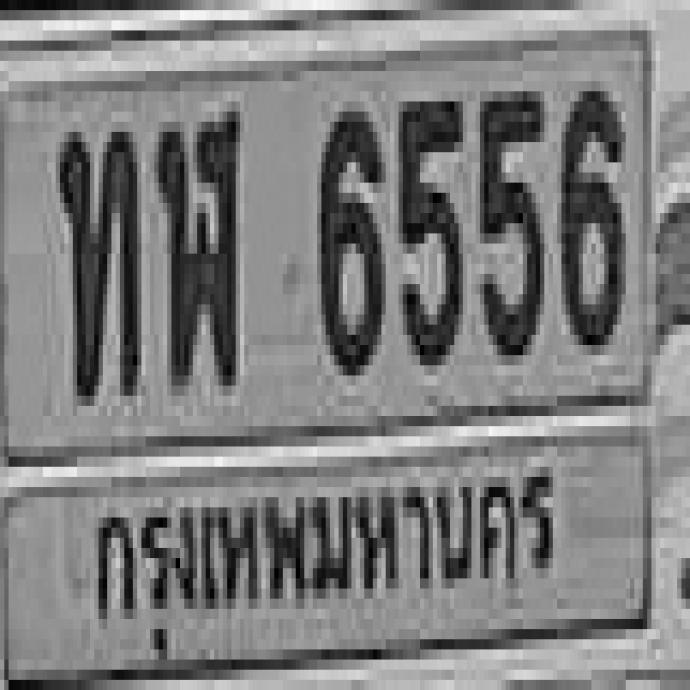5: (475, 81, 539, 351), (395, 93, 458, 357)
6: (315, 101, 378, 366), (556, 82, 618, 342)
A23: (56, 121, 135, 394)
A42: (154, 100, 236, 380)
BKK: (84, 452, 564, 642)
